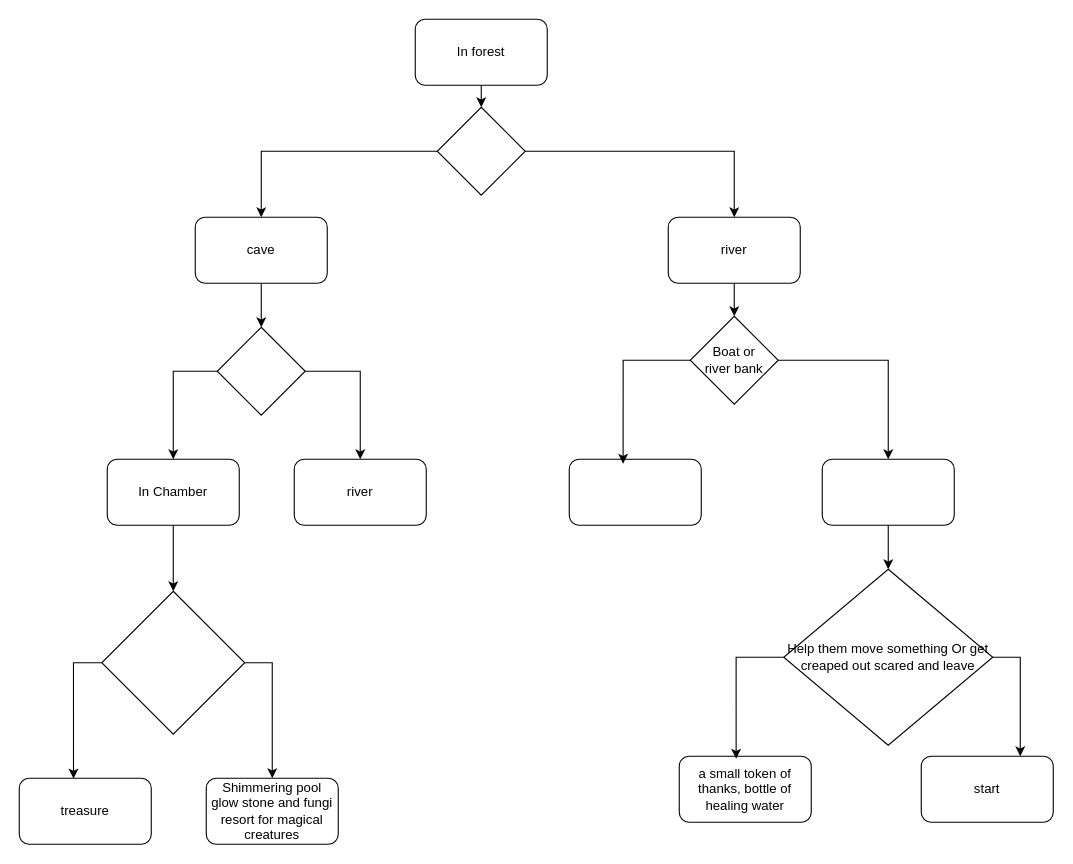
This 1073x864 diagram has some shape labels left out. Each missing label, with the centre of its shape:
Go in or turn back: the point at 260,370
Left or Right: the point at 480,150
meet creepy animal like frogs: the point at 887,491
new adventure: the point at 634,491
two paths; one up and dark scary OR down and a bit of lite: the point at 173,662
